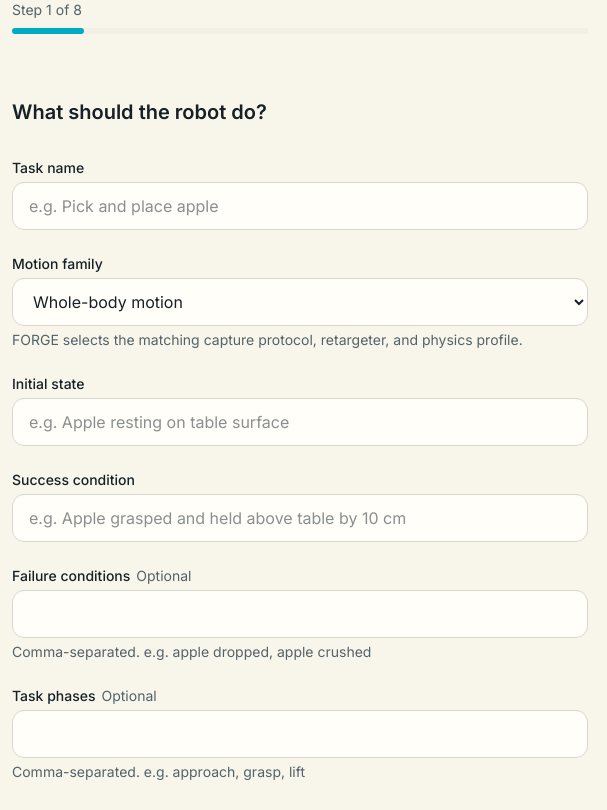
Test: NewOrderStepper › goes back and preserves data
Type "Pick apple" into the field labelled "Task name" at (300, 206), box [12,182,588,230]
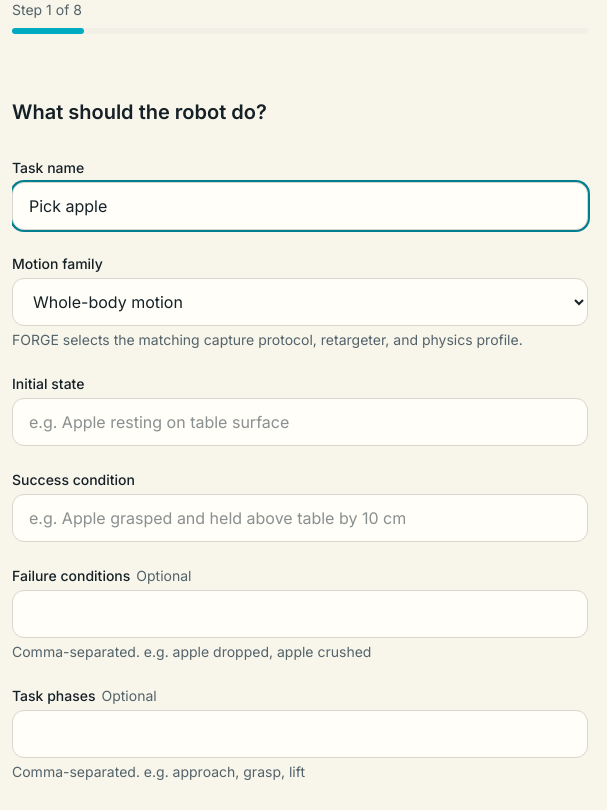
Type "Apple on table" into the field labelled "Initial state" at (300, 422), box [12,398,588,446]
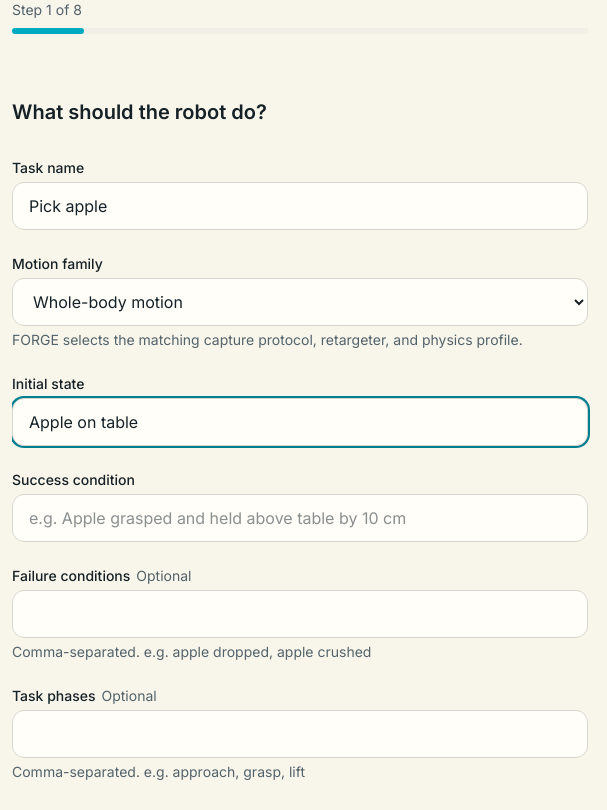
Type "Apple in bin" into the field labelled "Success condition" at (300, 518), box [12,494,588,542]
(page scrolled)
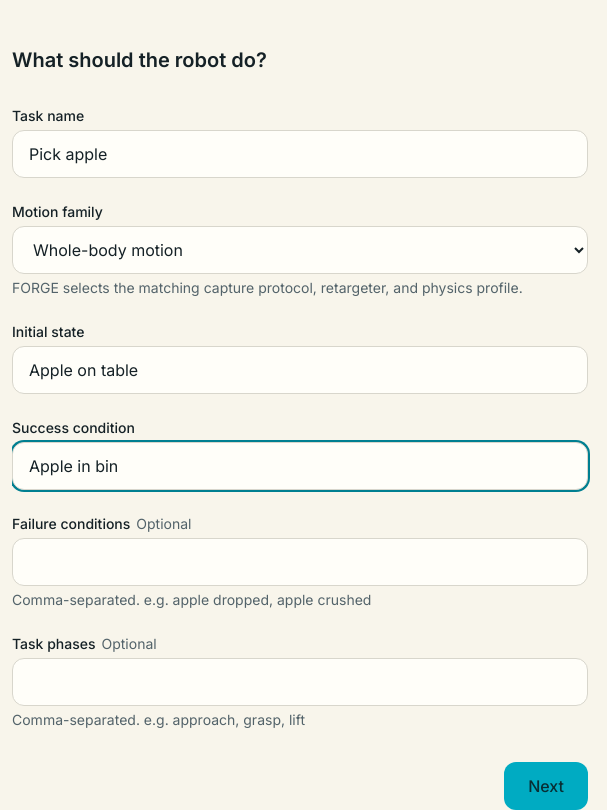
Click the button "Next" at (546, 786), box [504,762,588,809]
(page scrolled)
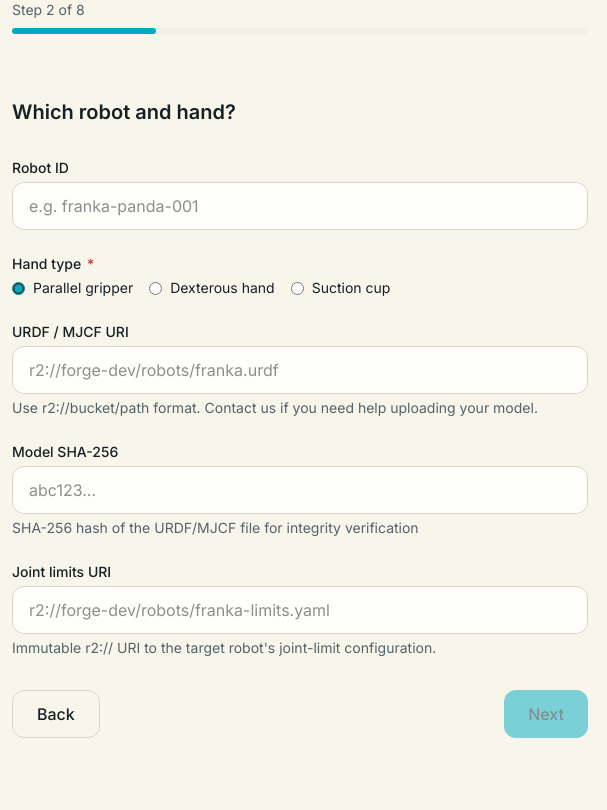
Click the button "Back" at (56, 714), box [12,690,100,738]
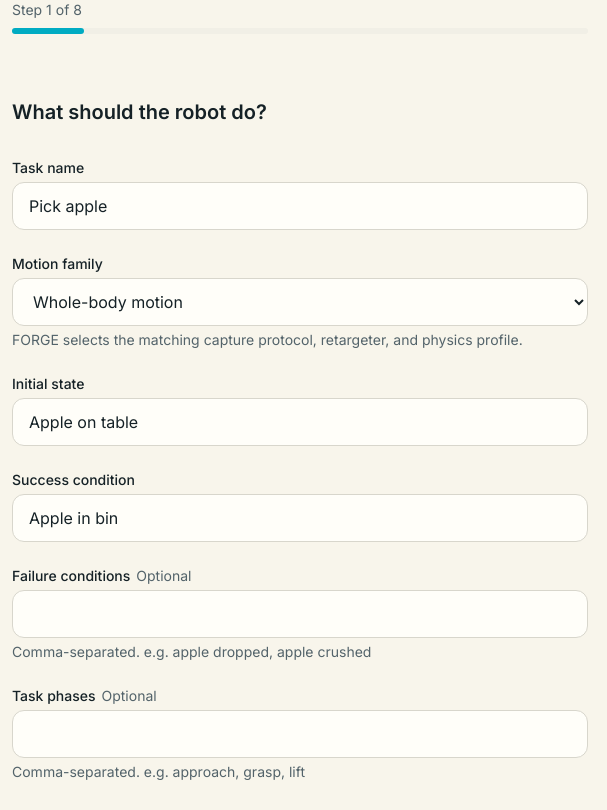
expect the field showing "Pick apple" is shown: met, box [12,182,588,230]
